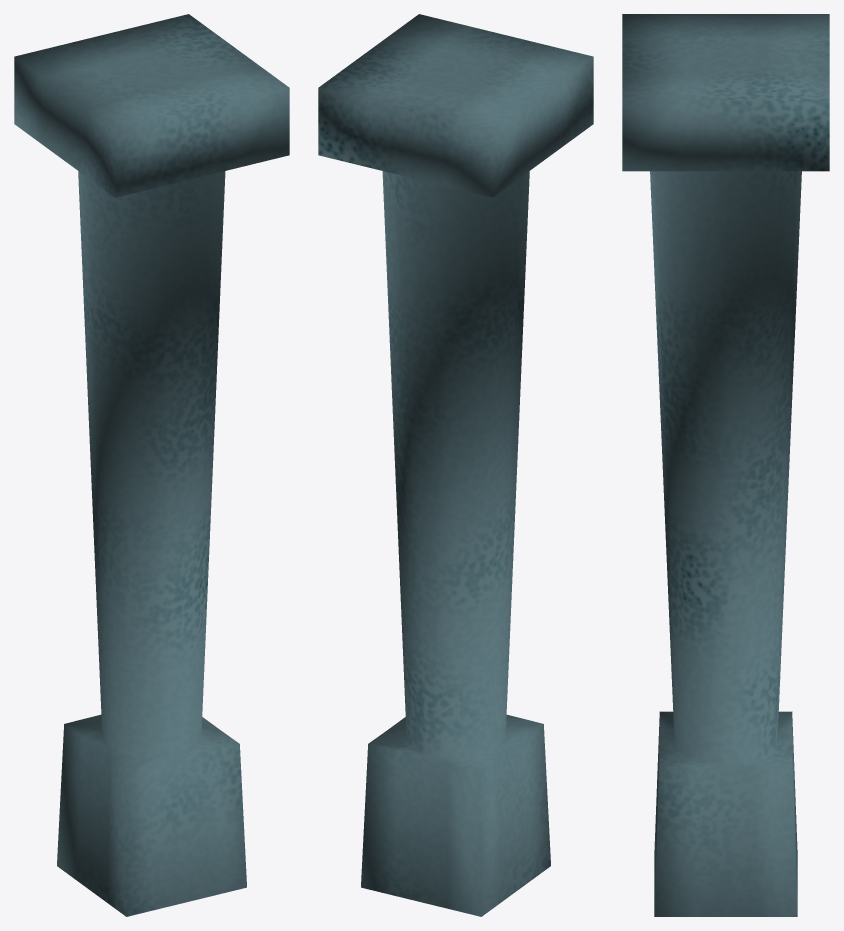
File: OLD_TallColumn.fbx
3 views of the same model, side by side, from view 1: azimuth 30°, elevation 25°; view 2: azimuth 150°, elevation 25°; view 3: azimuth 270°, elevation 25° (orthographic). The views are drawn at different scales.
Parts seen in each view (by area): view 1: Pillar.002; view 2: Pillar.002; view 3: Pillar.002.
Part boxes in pixels (x1,y1,x2,y2): Pillar.002: [14, 14, 289, 916]; Pillar.002: [318, 14, 593, 916]; Pillar.002: [622, 14, 829, 916].
Bounding box in the file's own units: 325 × 1430 × 325.
Materials: 1 (1 with a texture image).
